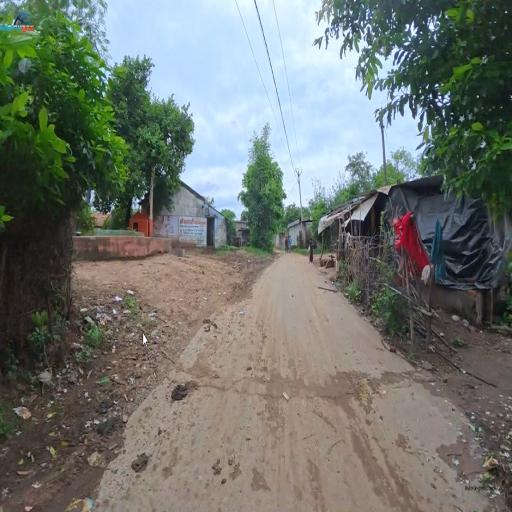ravelling: (213, 379, 406, 412)
